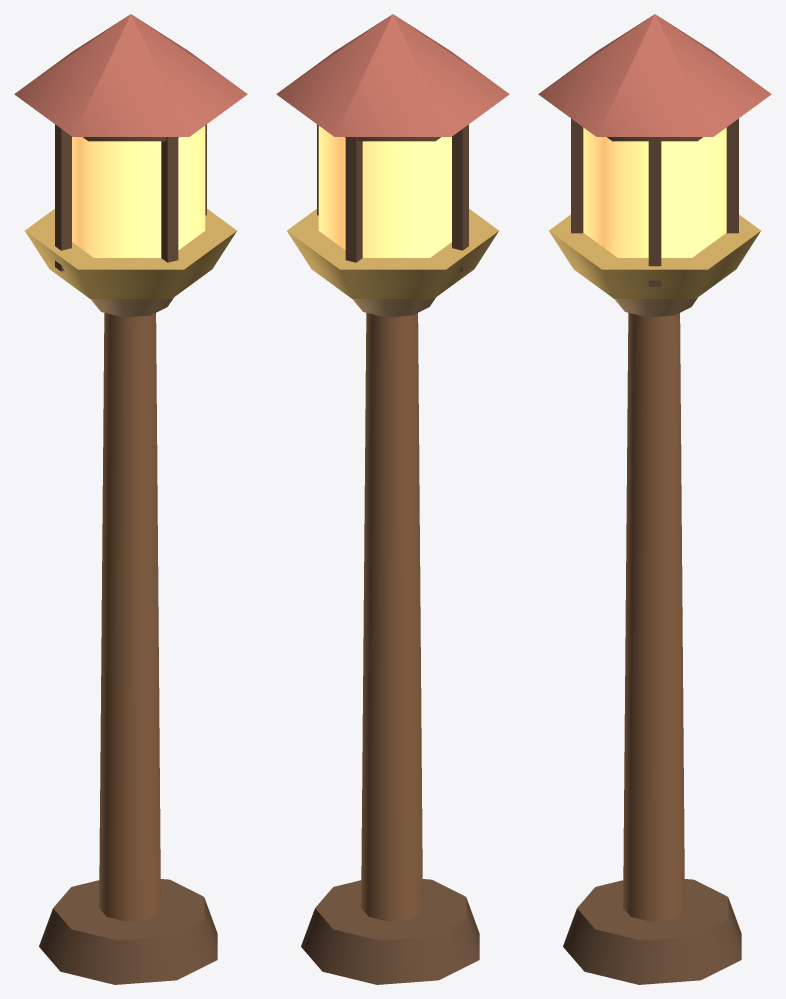
Rendered from market-lantern.glb.
3 renders of one model, left to right at view 1: azimuth 30°, elevation 25°; view 2: azimuth 150°, elevation 25°; view 3: azimuth 270°, elevation 25°, orthographic.
Parts seen in each view (by area): view 1: market-lantern_wood, market-lantern_woodDark, market-lantern_awningMain, market-lantern_glow, market-lantern_gold, market-lantern_woodLight; view 2: market-lantern_wood, market-lantern_woodDark, market-lantern_awningMain, market-lantern_glow, market-lantern_gold, market-lantern_woodLight; view 3: market-lantern_wood, market-lantern_woodDark, market-lantern_awningMain, market-lantern_glow, market-lantern_gold, market-lantern_woodLight.
Boxes of the visible parts, box(x1,y1,x2,y2) form: market-lantern_wood: box(99, 312, 160, 921); market-lantern_woodDark: box(39, 124, 217, 984); market-lantern_awningMain: box(14, 14, 247, 136); market-lantern_glow: box(72, 126, 205, 257); market-lantern_gold: box(25, 209, 236, 298); market-lantern_woodLight: box(90, 297, 173, 317); market-lantern_wood: box(361, 312, 422, 921); market-lantern_woodDark: box(301, 124, 479, 984); market-lantern_awningMain: box(276, 14, 509, 136); market-lantern_glow: box(318, 126, 451, 257); market-lantern_gold: box(287, 209, 498, 298); market-lantern_woodLight: box(352, 297, 435, 317); market-lantern_wood: box(623, 312, 684, 921); market-lantern_woodDark: box(563, 118, 741, 984); market-lantern_awningMain: box(538, 14, 771, 136); market-lantern_glow: box(583, 127, 726, 257); market-lantern_gold: box(549, 214, 760, 298); market-lantern_woodLight: box(614, 297, 697, 317).
Bounding box in the file's own units: 0.5716 × 2.9 × 0.66.
